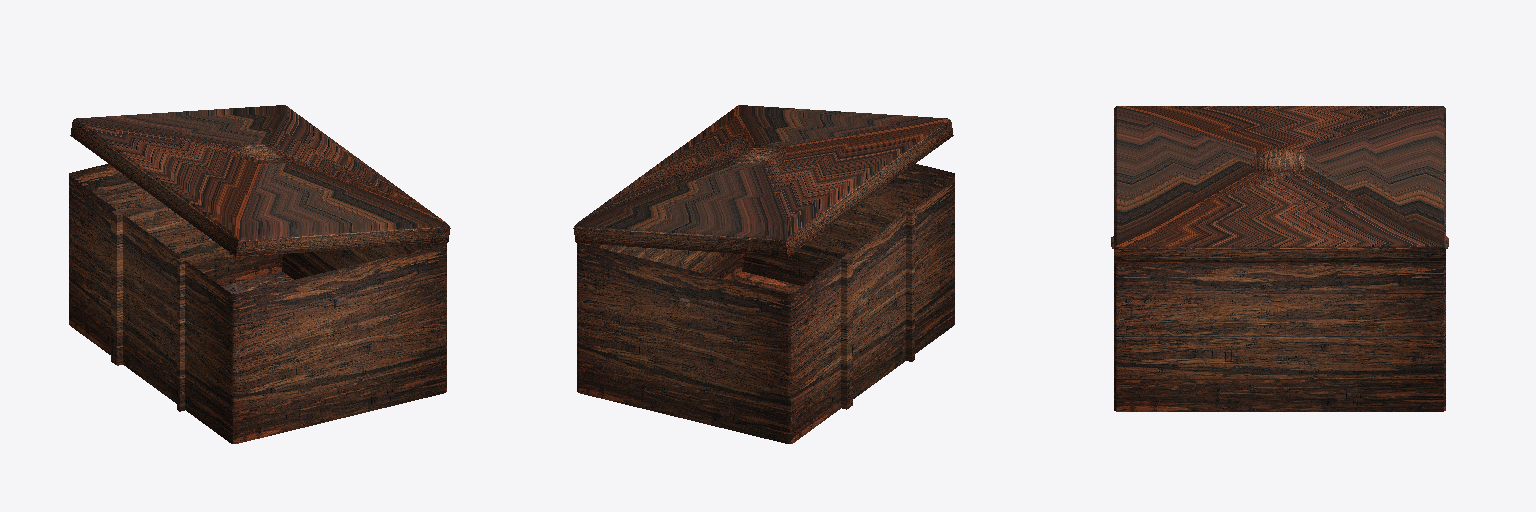
The picture shows the model from 3 angles: view 1: azimuth 30°, elevation 25°; view 2: azimuth 150°, elevation 25°; view 3: azimuth 270°, elevation 25°; orthographic projection.
Parts seen in each view (by area): view 1: Box001, Box002; view 2: Box001, Box002; view 3: Box002, Box001.
Part boxes in pixels (x1,y1,x2,y2): Box001: (69,164,446,443); Box002: (70,105,450,256); Box001: (577,164,954,443); Box002: (573,105,953,256); Box002: (1114,106,1445,262); Box001: (1111,236,1448,411).
Size of the model in its own units: 18.41 by 16.13 by 24.13.
Materials: 1 (1 with a texture image).